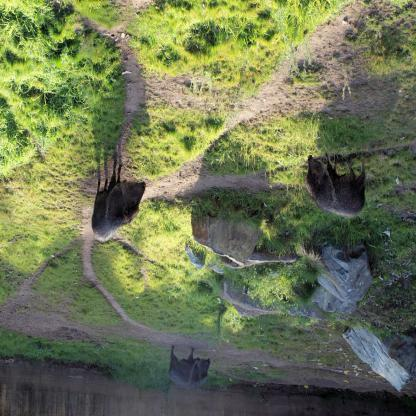boar: (91, 161, 147, 244), (306, 152, 366, 219), (168, 346, 211, 388)
